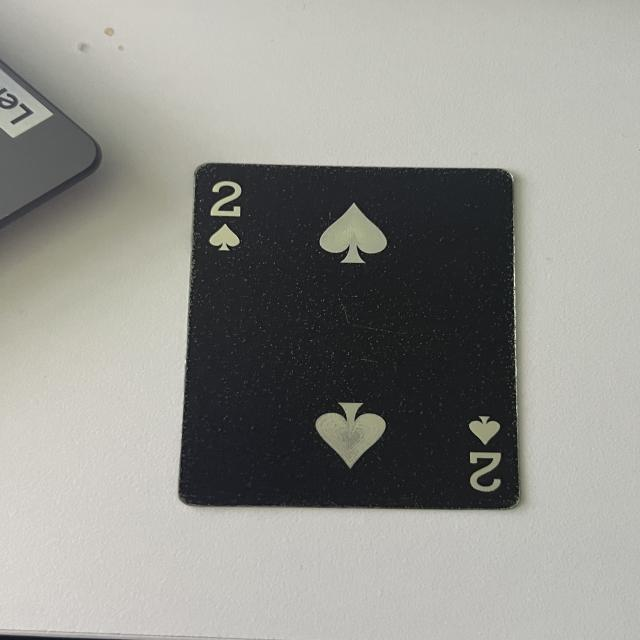2S: (461, 414, 510, 498), (204, 182, 256, 258)
